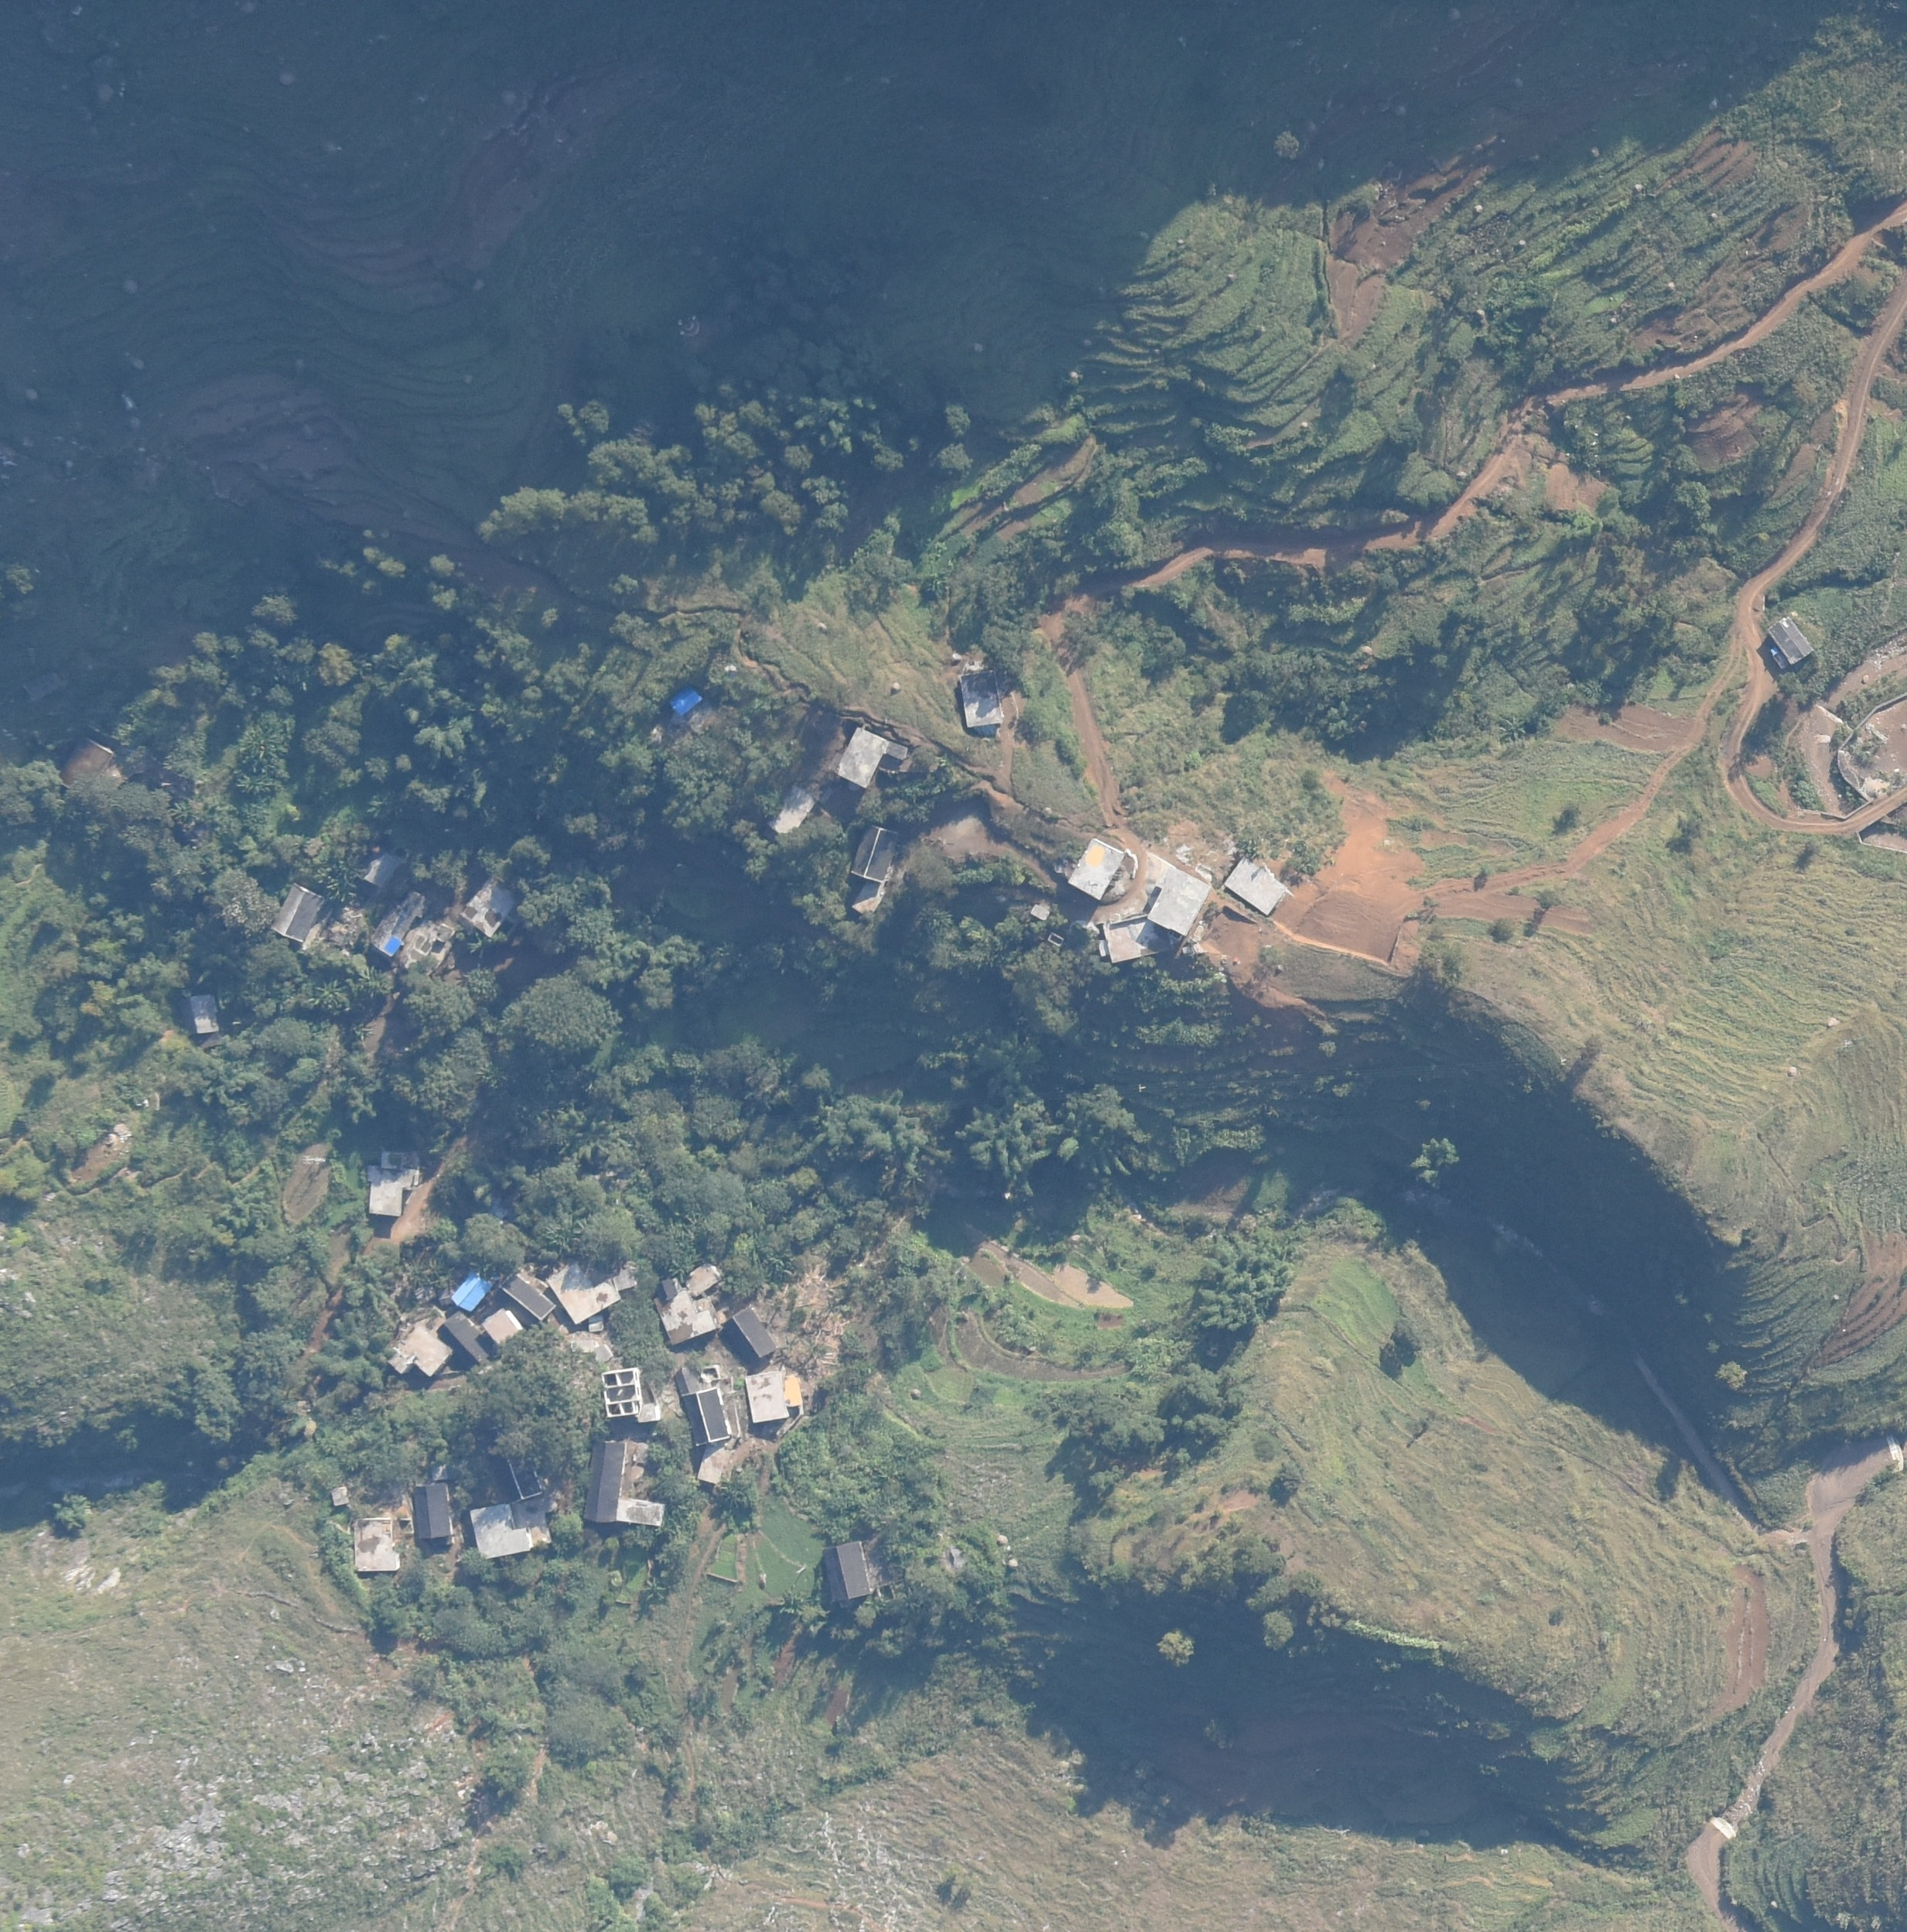building: (583, 1439, 665, 1527), (548, 1261, 637, 1326), (374, 903, 454, 975), (655, 1266, 721, 1342), (838, 725, 910, 793), (386, 1307, 452, 1378), (472, 1502, 555, 1558), (463, 875, 529, 936), (1065, 837, 1126, 901), (674, 1366, 728, 1438), (849, 826, 891, 917), (1149, 870, 1210, 931), (365, 1151, 421, 1218), (1222, 861, 1289, 915), (59, 739, 120, 797), (269, 880, 323, 943), (746, 1370, 805, 1425), (412, 1467, 454, 1544), (821, 1541, 873, 1600), (959, 666, 1004, 734), (489, 1441, 540, 1499), (498, 1270, 552, 1319), (435, 1315, 489, 1363), (351, 1518, 398, 1572), (1095, 921, 1154, 959), (728, 1307, 770, 1361), (1769, 617, 1814, 664), (180, 990, 222, 1034), (361, 849, 400, 889), (482, 1312, 522, 1345), (697, 1445, 726, 1485), (1030, 903, 1048, 919), (332, 1487, 346, 1506)
prefabricated-house: (760, 786, 821, 840), (449, 1270, 494, 1310), (667, 680, 707, 714)
vehicle: (1769, 645, 1788, 671)
